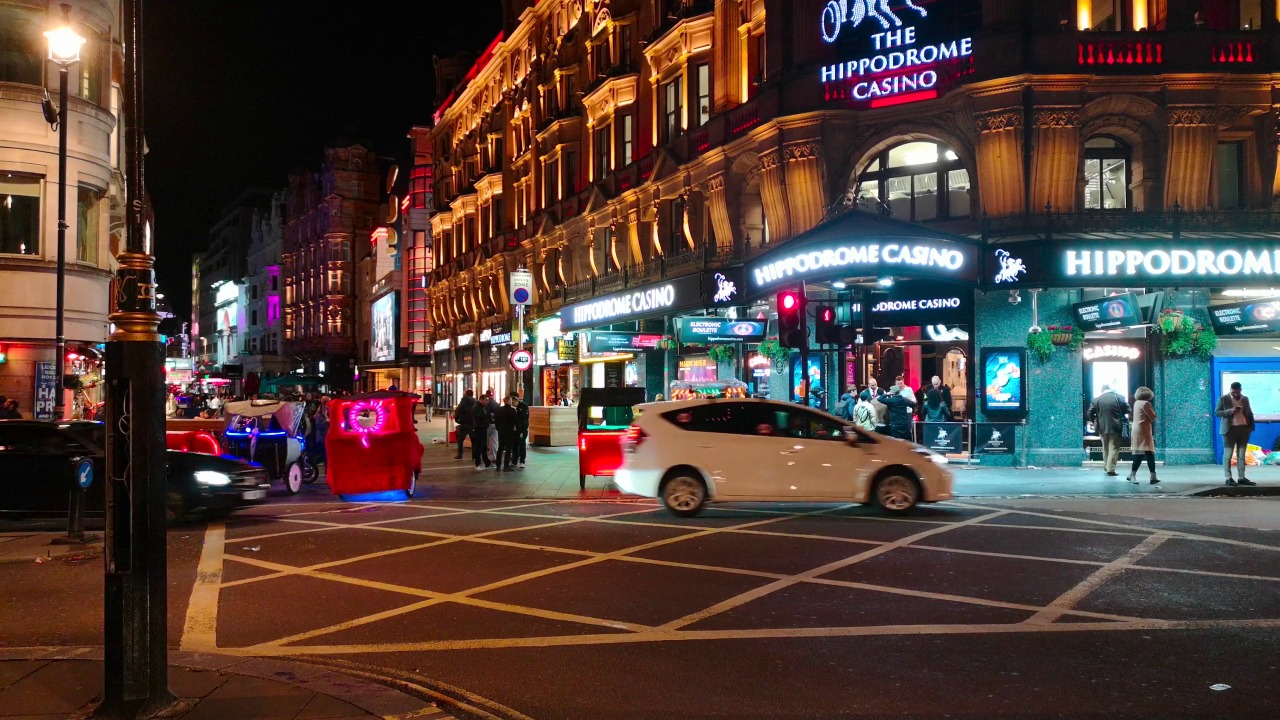car: (619, 395, 959, 516), (1, 420, 276, 526), (323, 395, 425, 499), (223, 400, 327, 493), (576, 387, 647, 487), (160, 419, 224, 461)
person: (1215, 379, 1258, 488), (1088, 381, 1130, 479), (1126, 385, 1163, 485), (880, 388, 920, 442), (453, 388, 481, 462), (499, 395, 517, 474), (510, 392, 528, 470), (787, 386, 836, 413), (476, 393, 492, 471), (926, 390, 947, 447), (834, 383, 863, 420), (487, 387, 498, 464), (891, 372, 917, 403), (854, 393, 874, 431), (872, 388, 887, 430), (860, 376, 885, 398), (1, 400, 28, 419), (928, 373, 949, 393), (424, 388, 435, 424)
